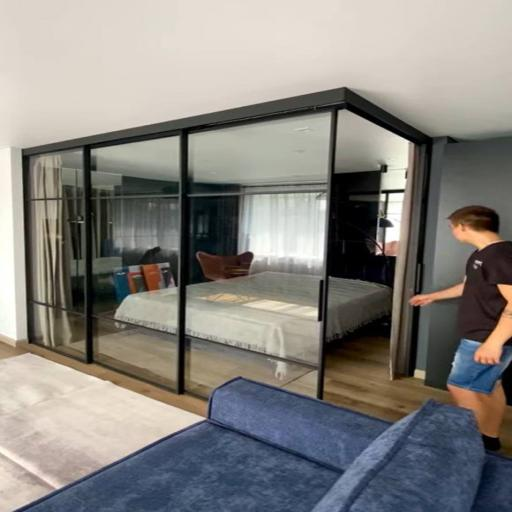elevator: (25, 106, 369, 397)
laptop: (410, 206, 511, 450)
person: (186, 272, 320, 364)
sidewalk: (20, 378, 511, 511)
